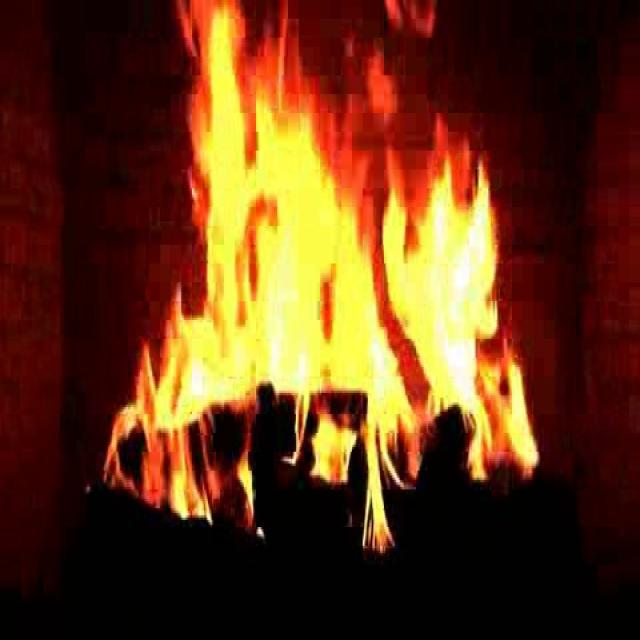fire: (148, 13, 521, 529)
